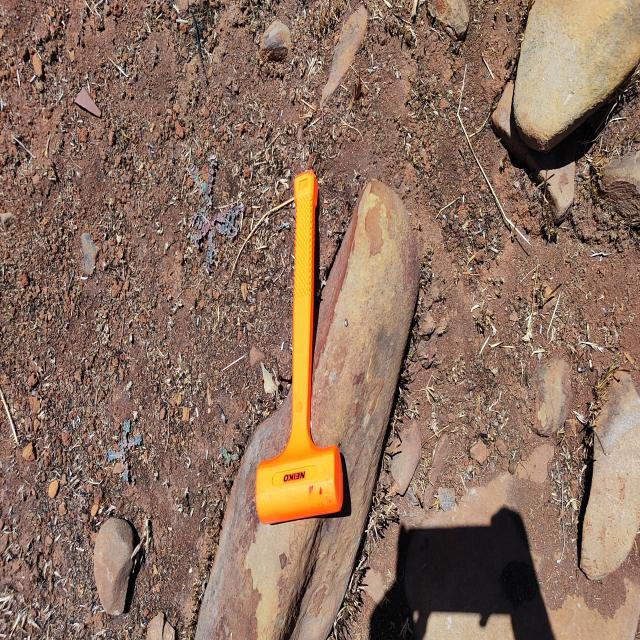Orange_hammer: (254, 169, 344, 525)
